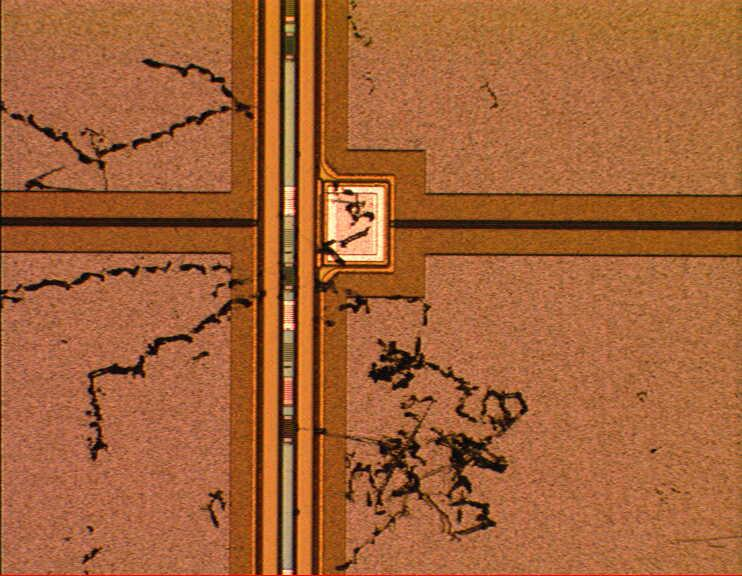SCRATCH: (1, 1, 535, 576)
